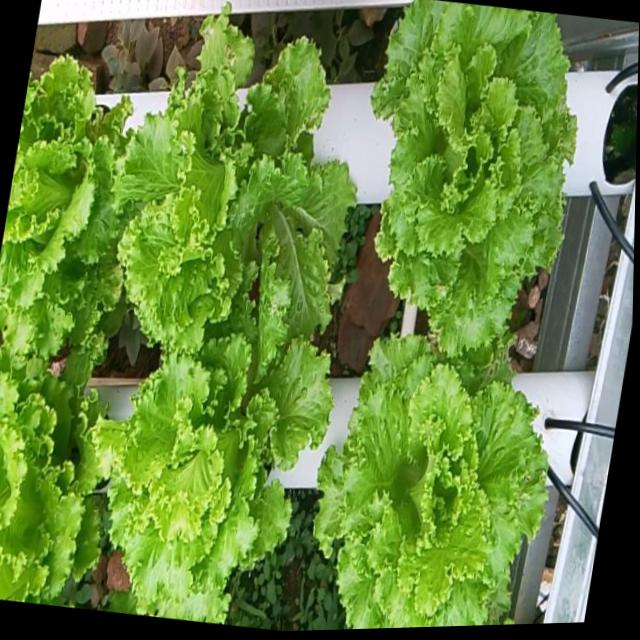Mature: (108, 5, 349, 333), (95, 302, 323, 621), (364, 0, 567, 358), (304, 329, 536, 629), (0, 41, 124, 344), (0, 349, 89, 604)
